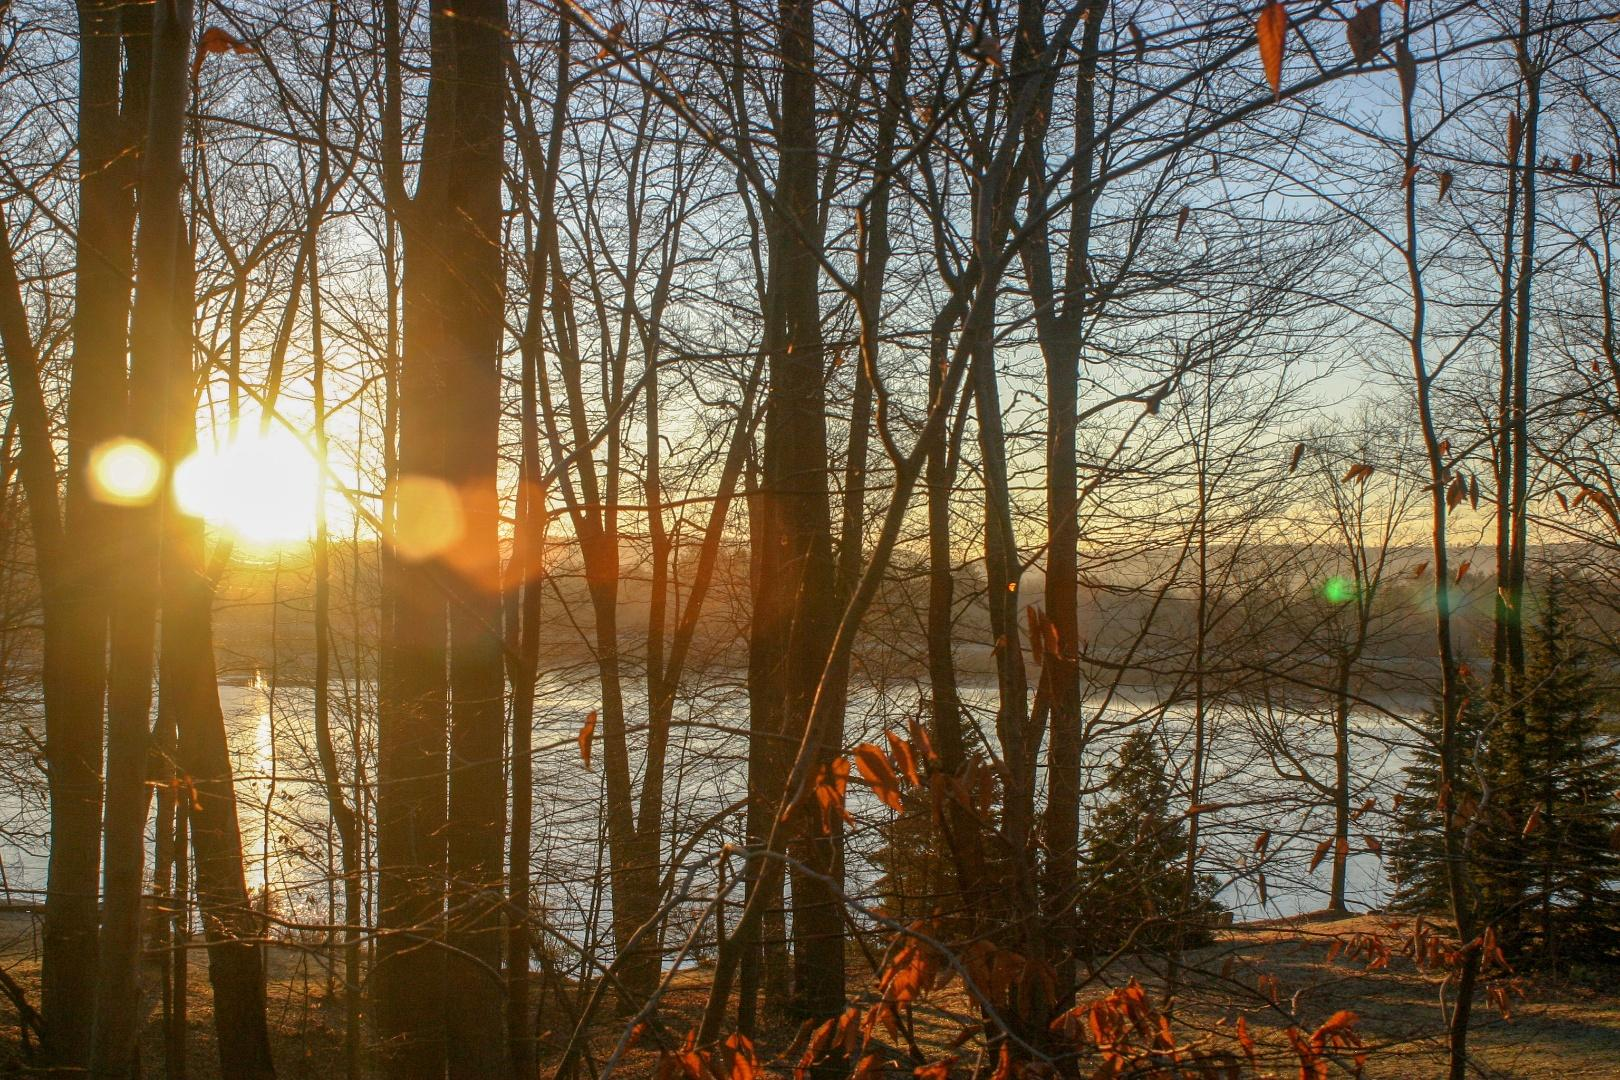trashbox-cardboard: (1396, 1037, 1620, 1080)
